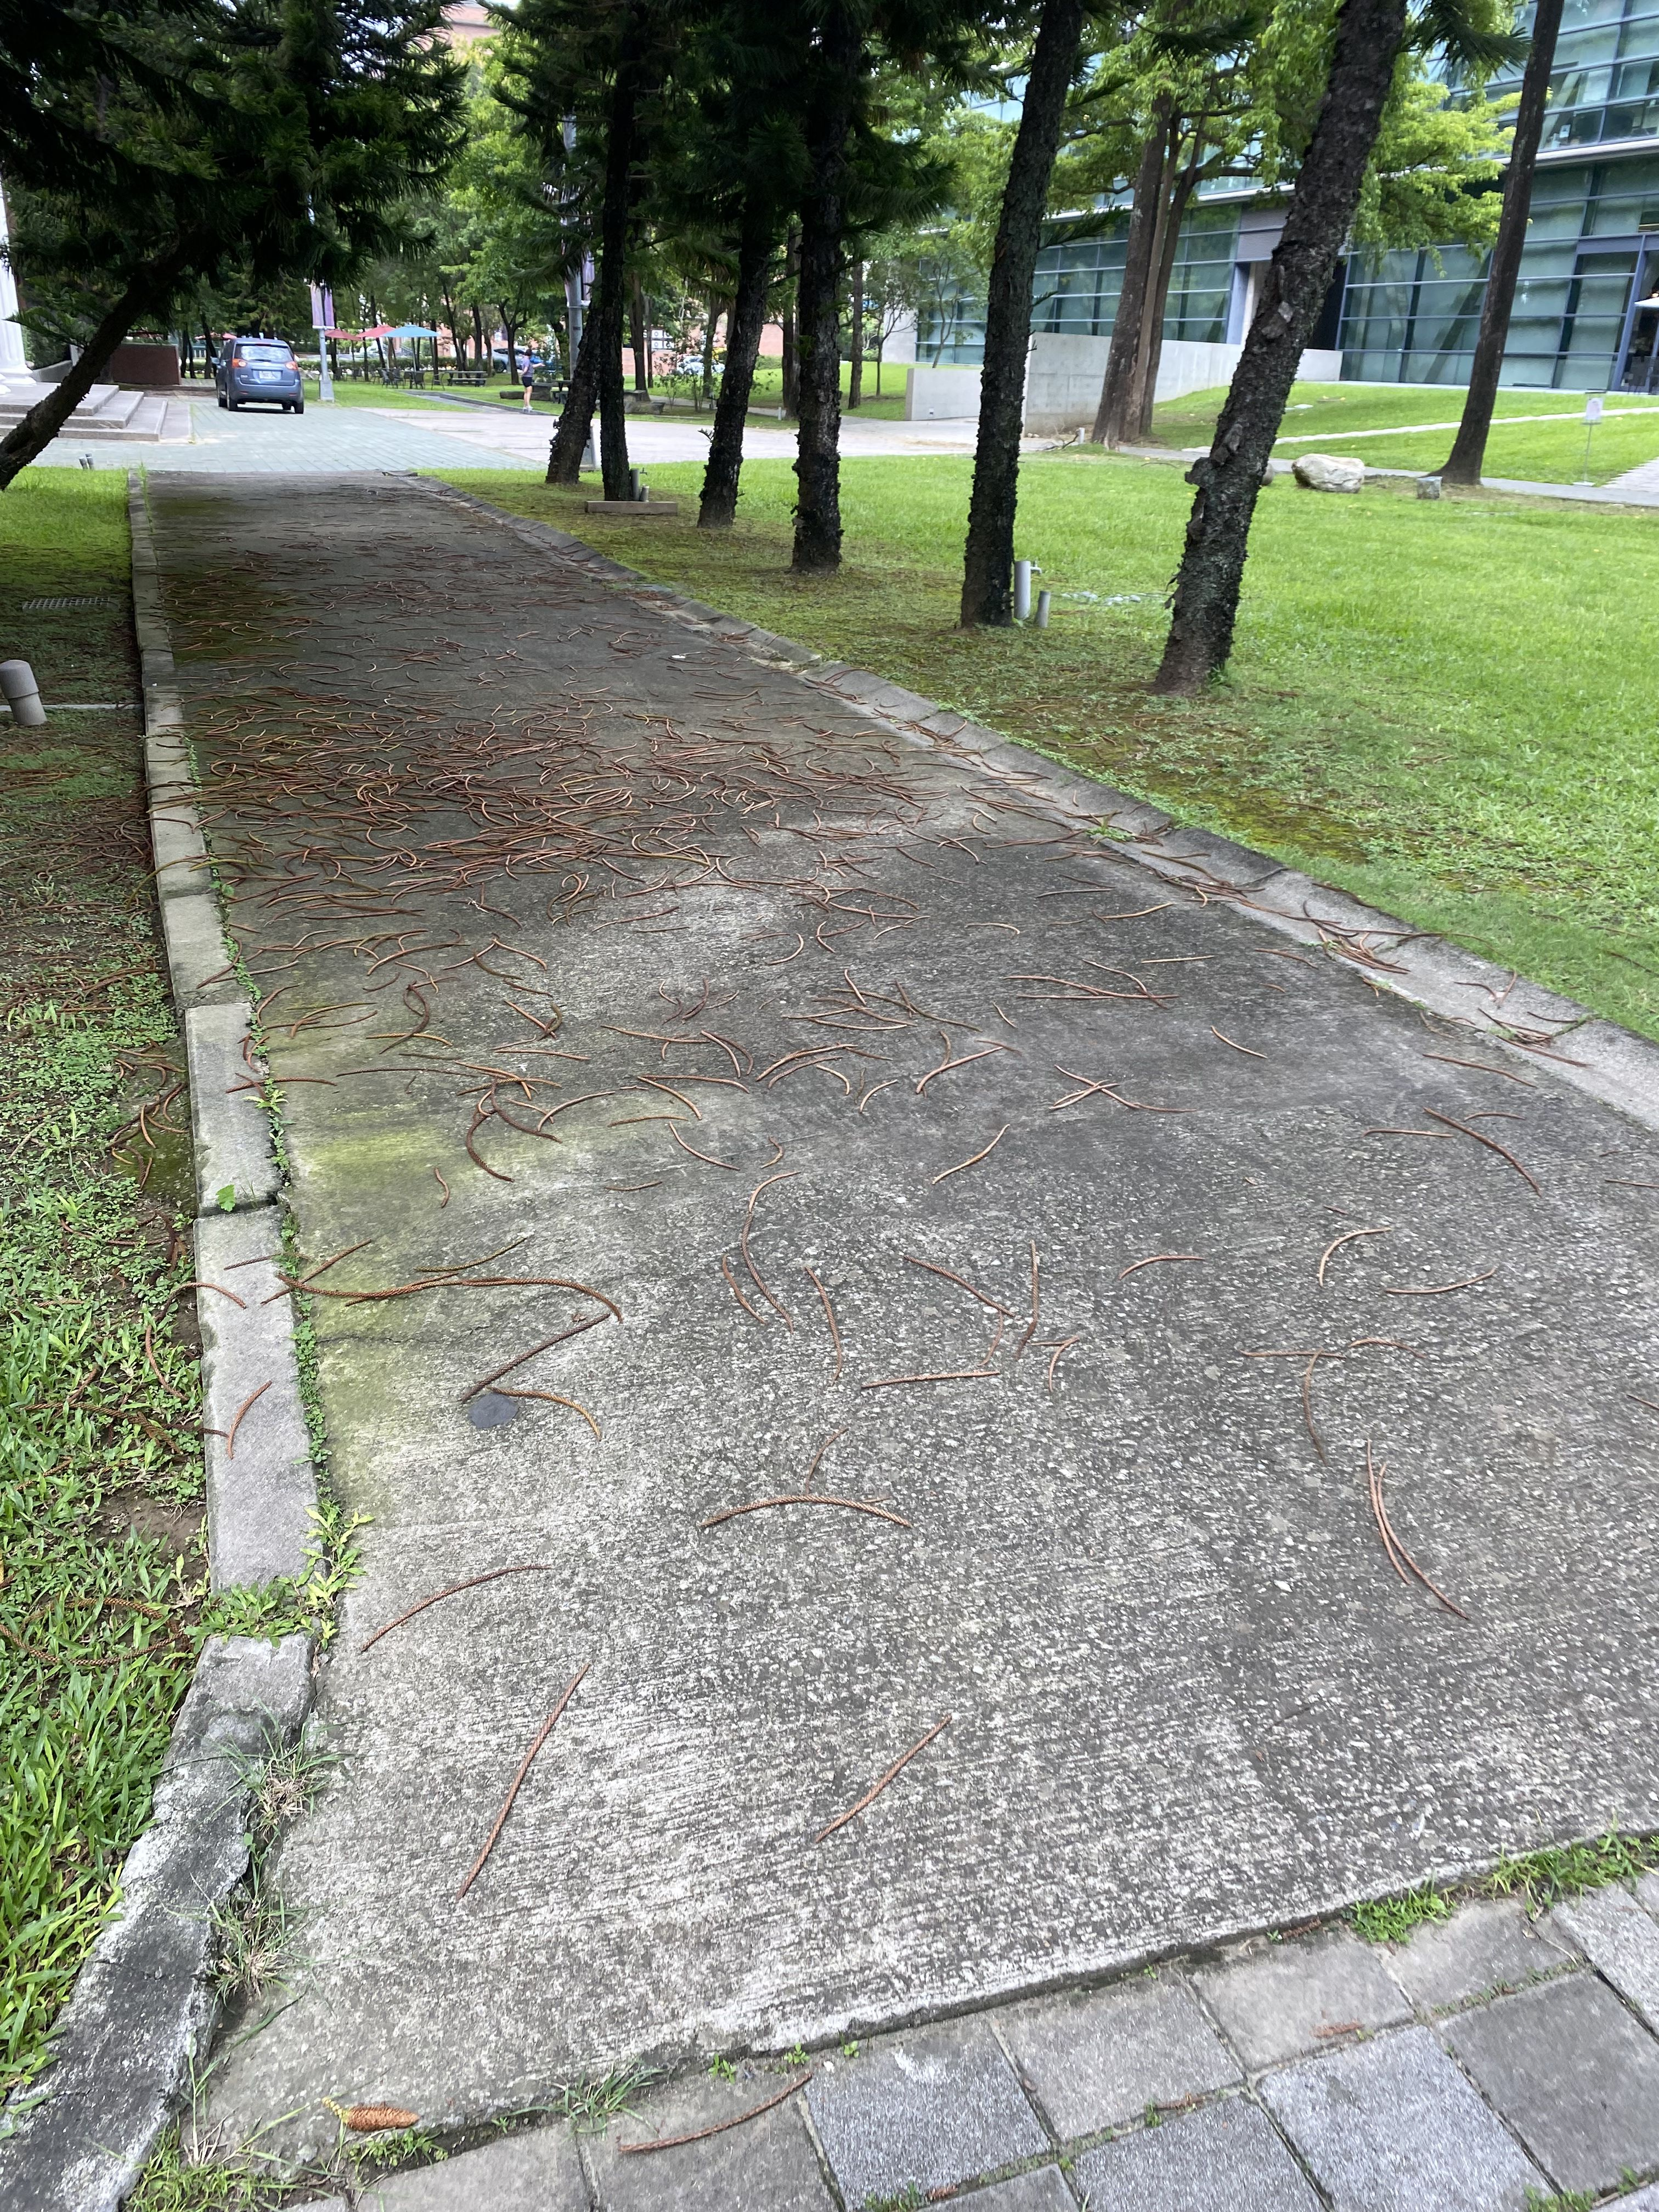sidewalk: (103, 453, 1659, 2212)
